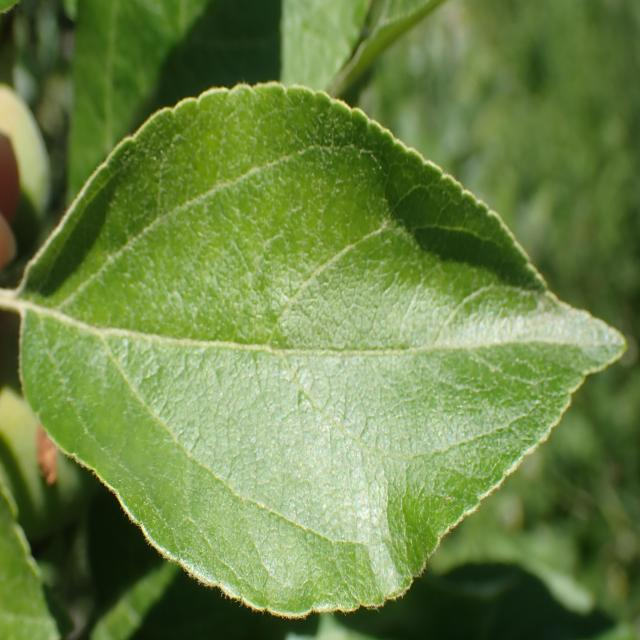healthy: (15, 80, 629, 620)
